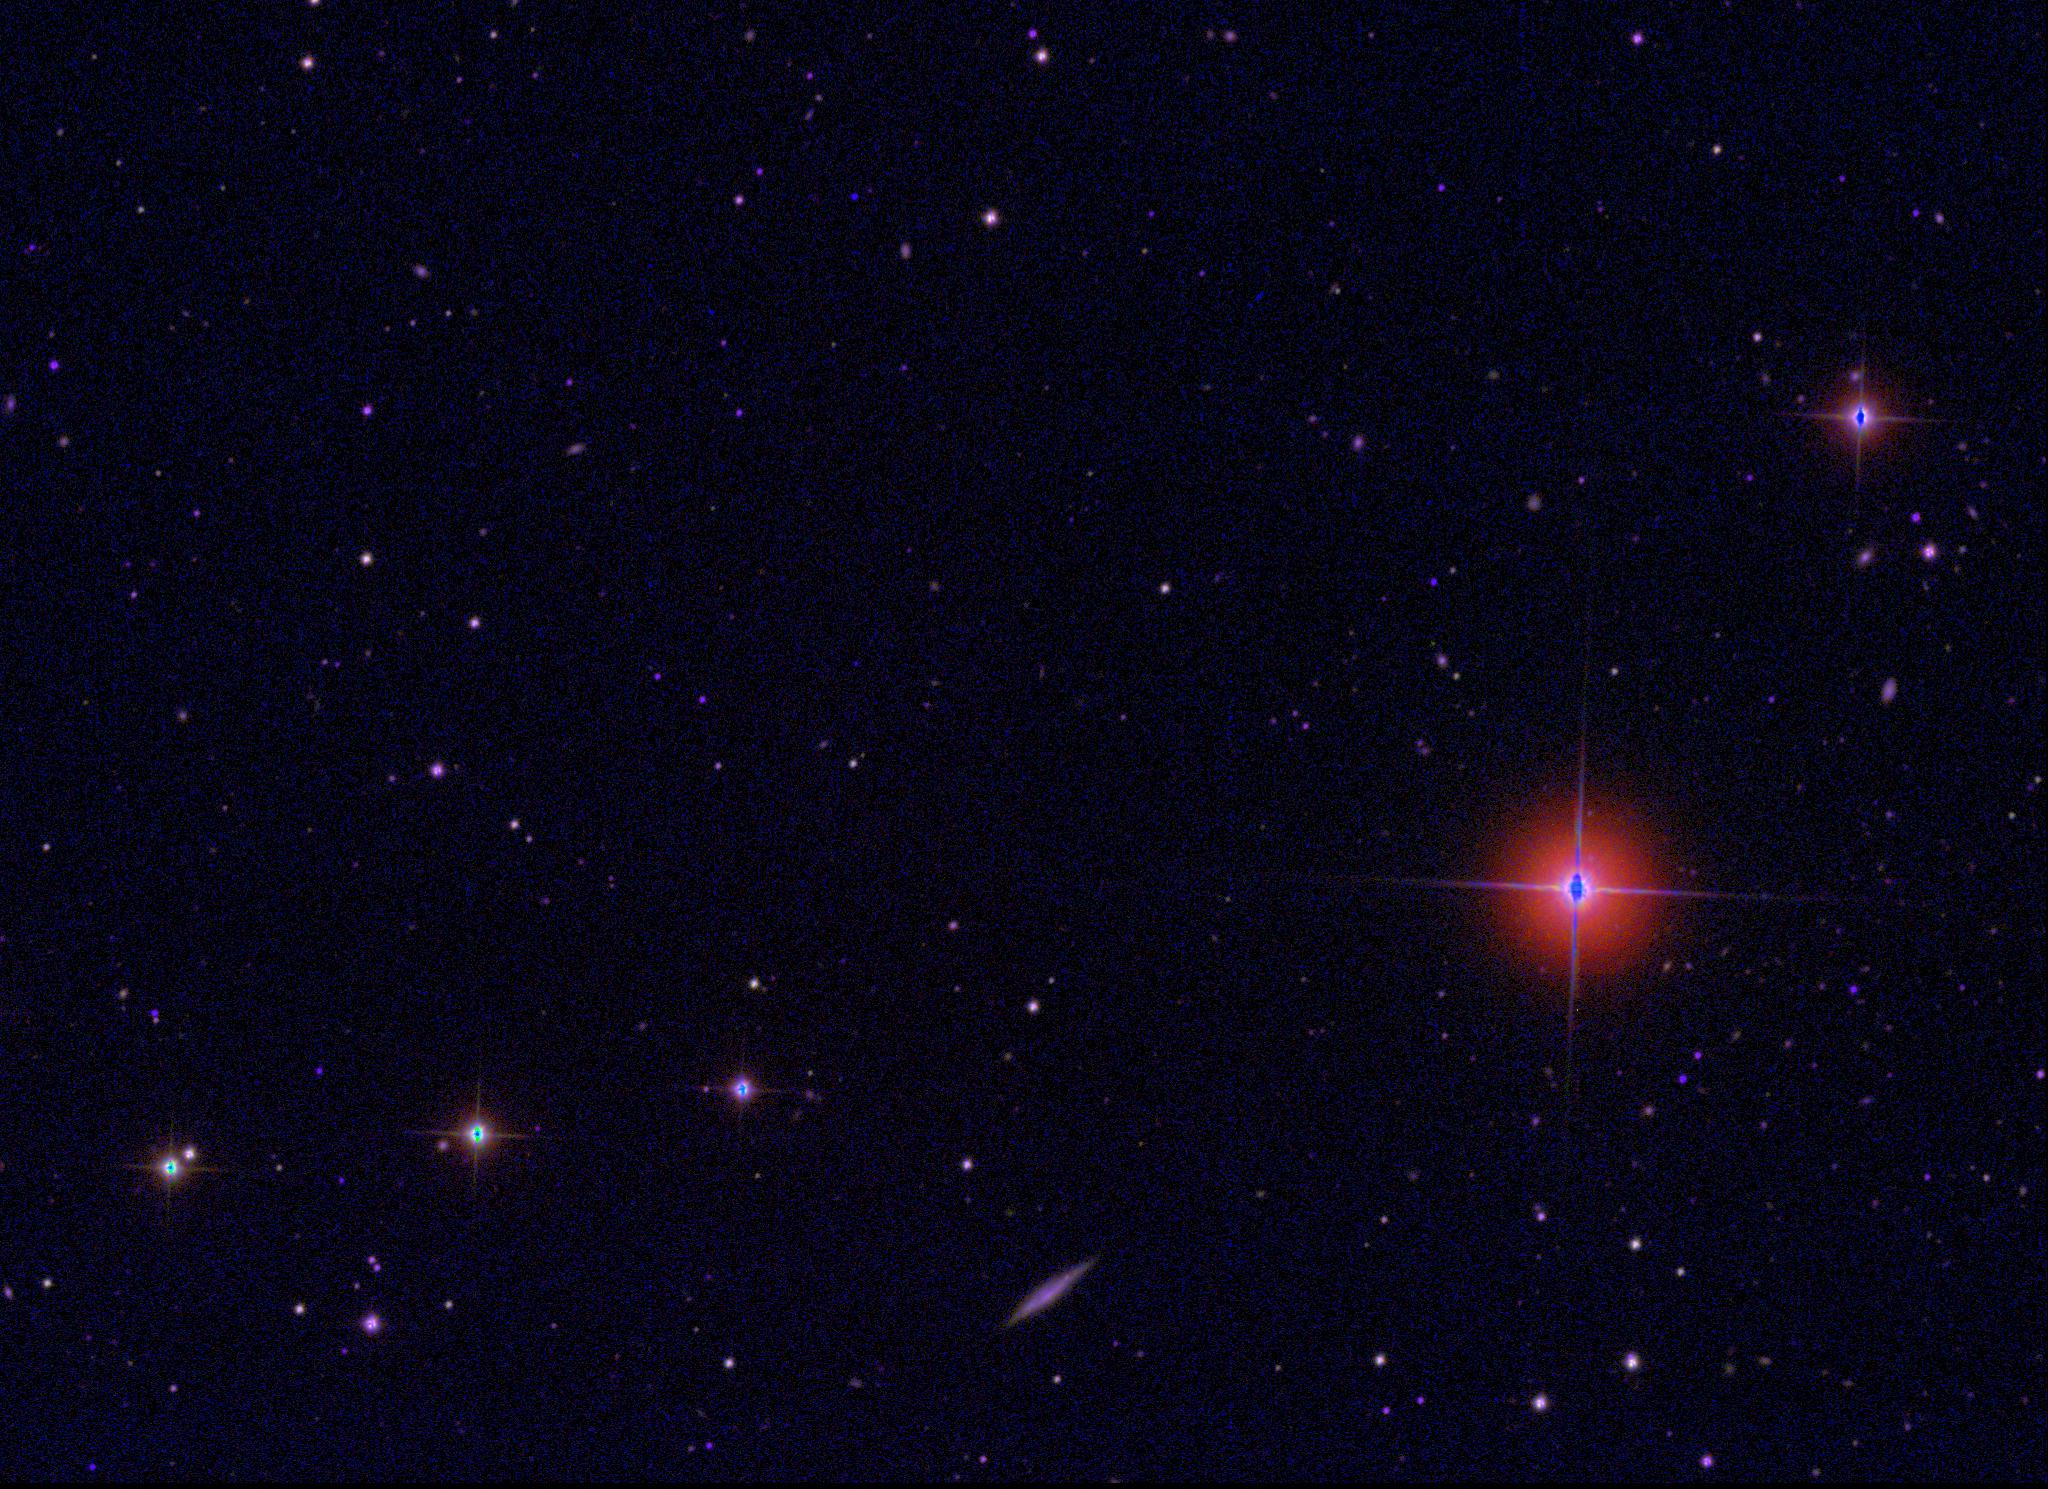L: (848, 189, 862, 204)
